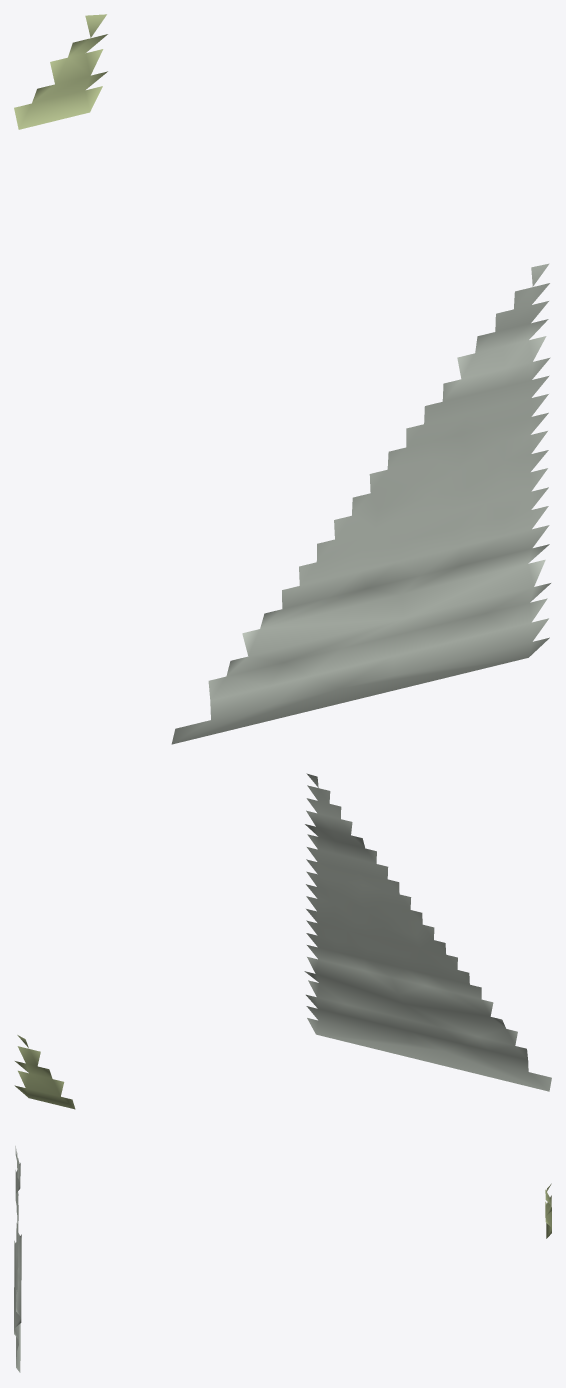
File: tile_7e4ccbd5fe0e_0_-2_-1_0_lod1.glb
3 renders of one model, top to bottom at view 1: azimuth 30°, elevation 25°; view 2: azimuth 150°, elevation 25°; view 3: azimuth 270°, elevation 25°, orthographic. The views are drawn at different scales.
Bounding box in the file's own units: 1.68 × 1.68 × 3.49.
